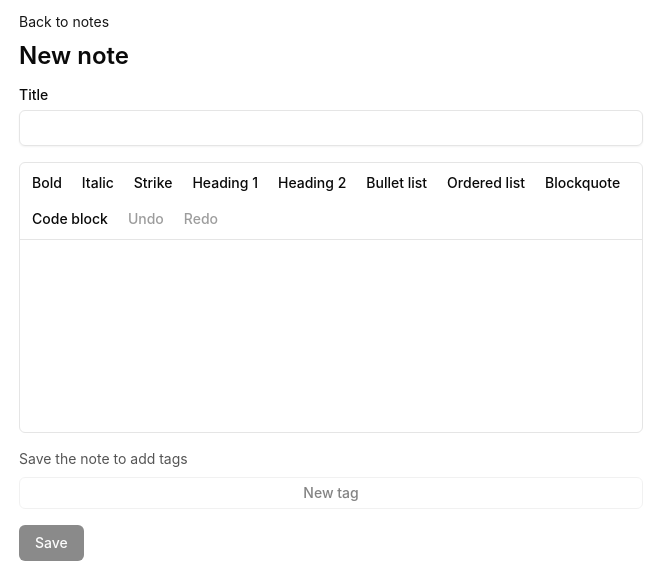
Test: NoteEditorPage creating › Create moves to the edit URL
Expected: the field named "Note content" is shown, [20,240,642,432]
Type "Groceries" into the field labelled "Title" at (331, 128), box [19,110,643,146]
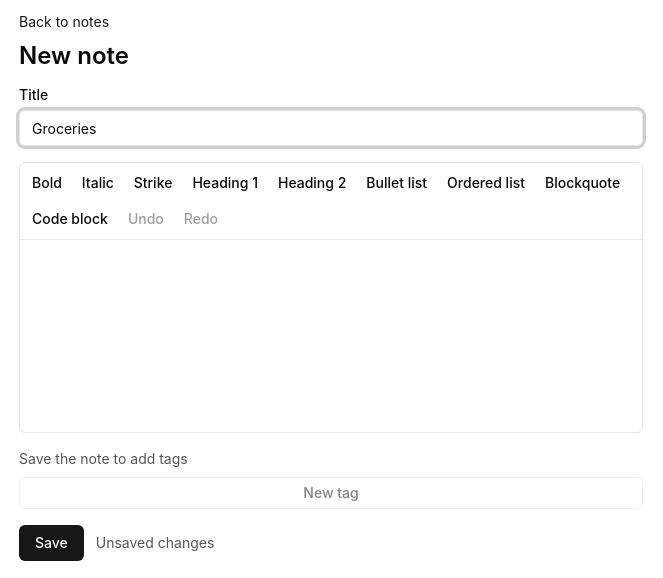
Click the button "Save" at (51, 543), box [19,525,84,561]
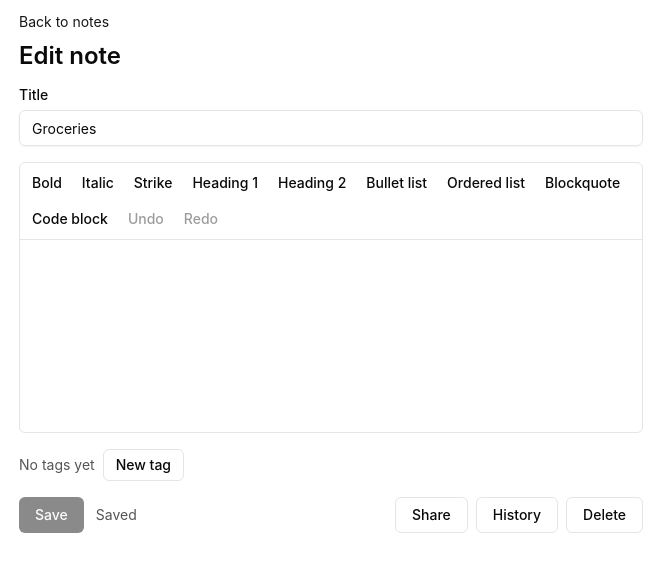
Now the heading "Edit note" is shown, box [19,41,121,70]
